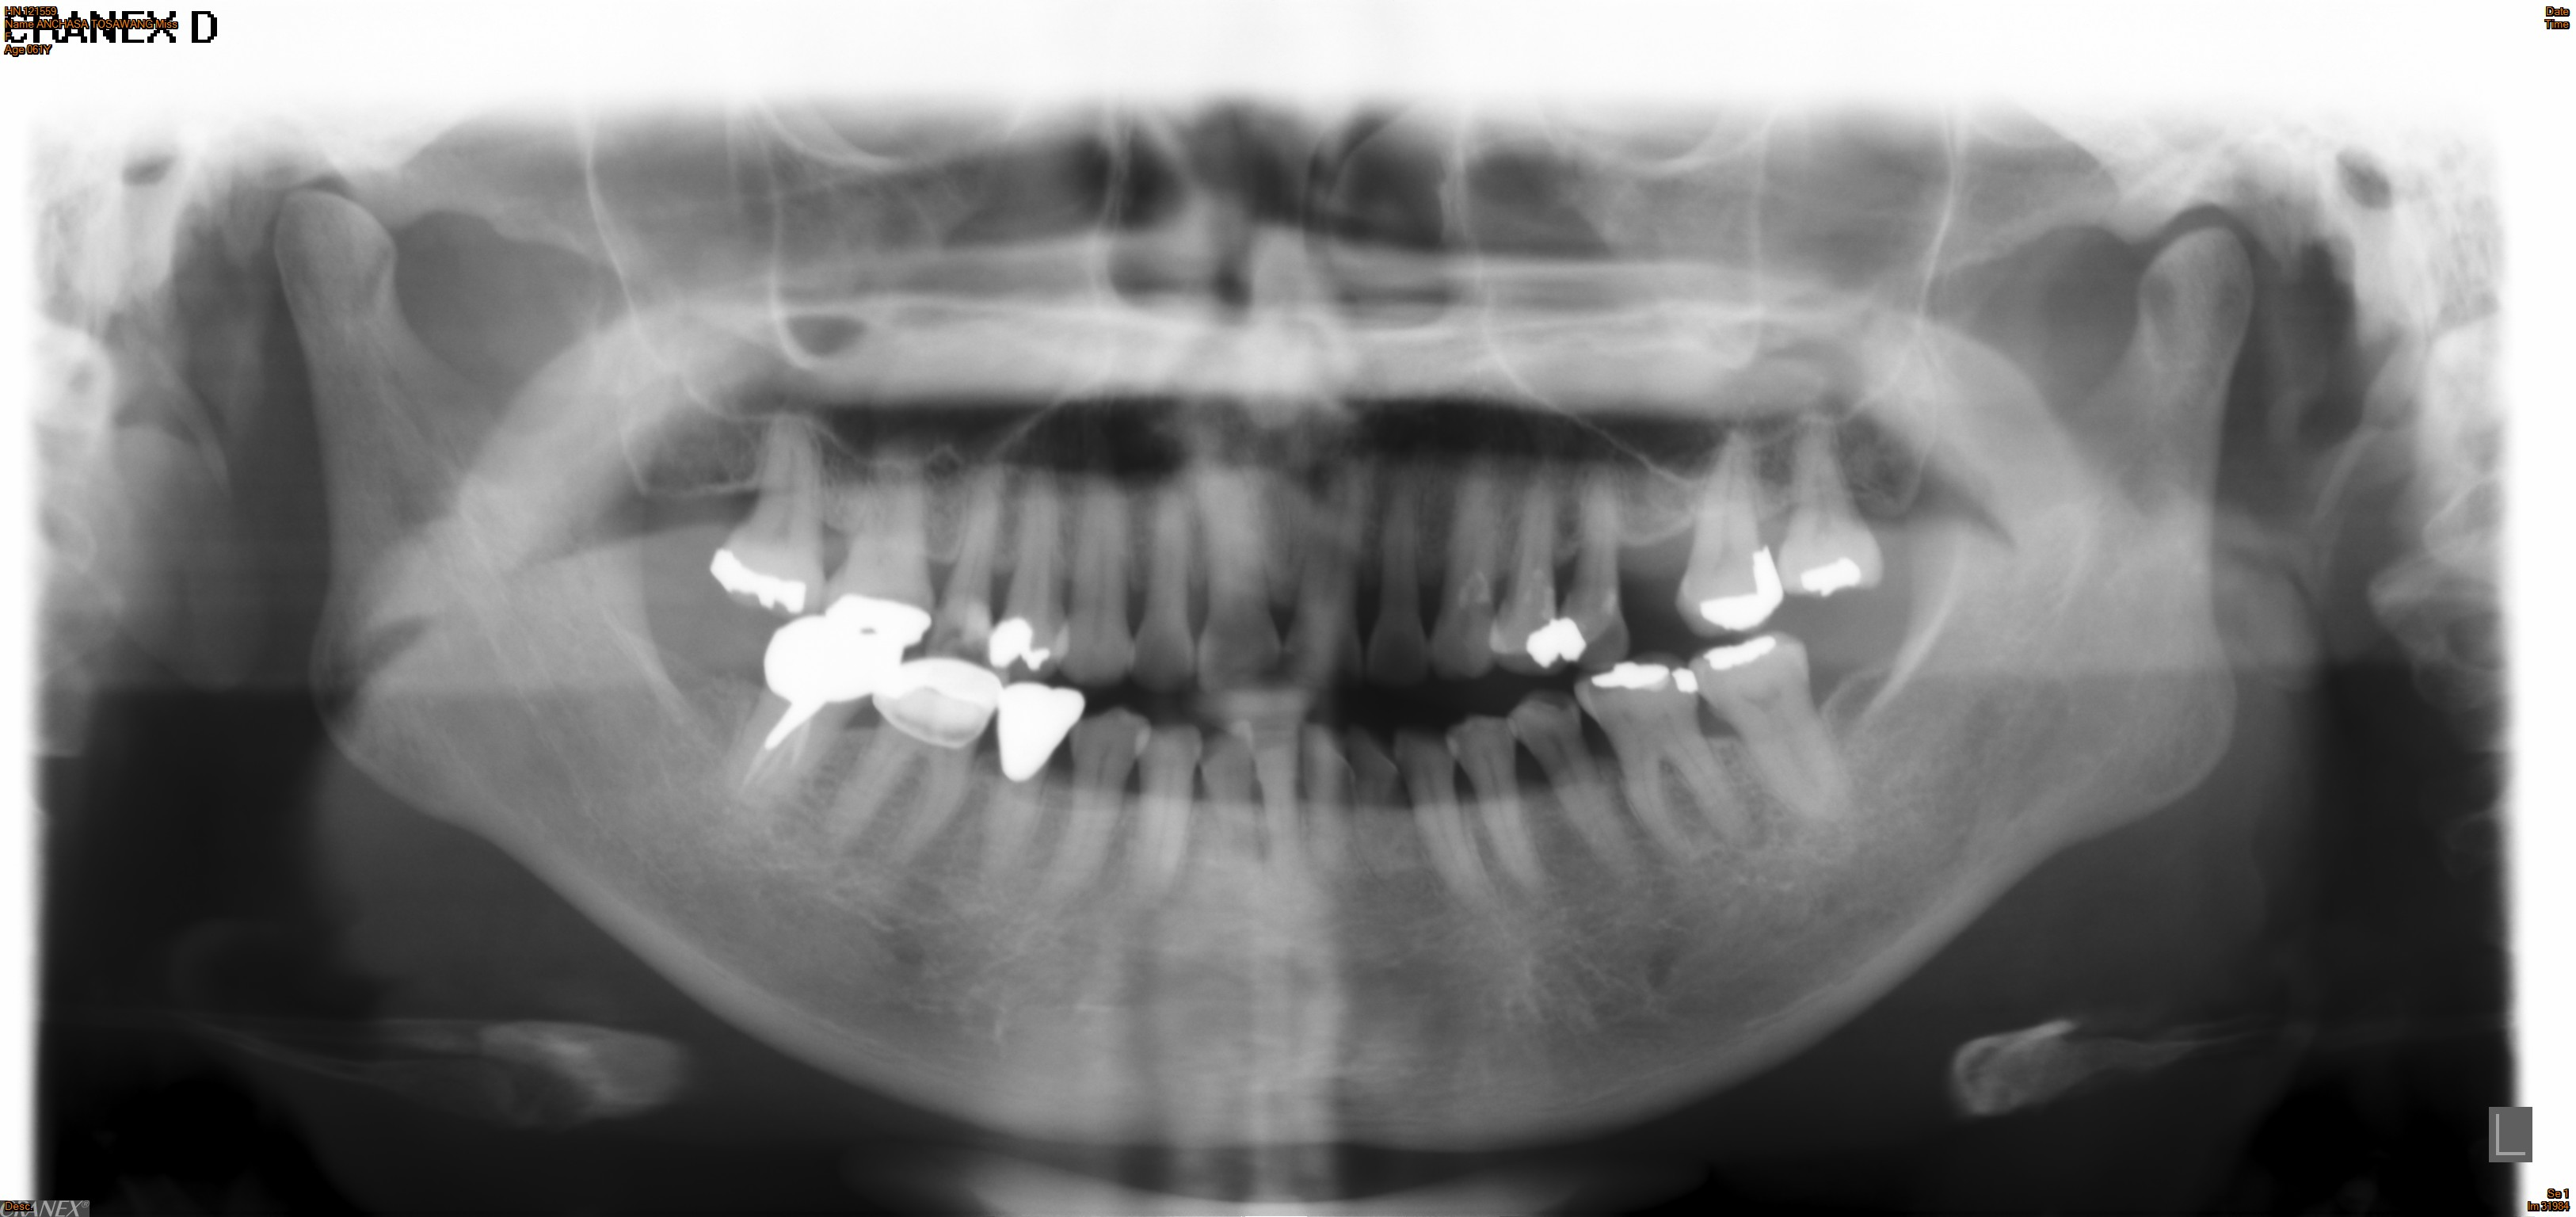periodontitis: (1572, 652, 1763, 867), (1687, 627, 1863, 838), (706, 406, 844, 624), (815, 447, 946, 654), (1764, 397, 1894, 606), (1666, 420, 1786, 641), (1554, 455, 1640, 677)
